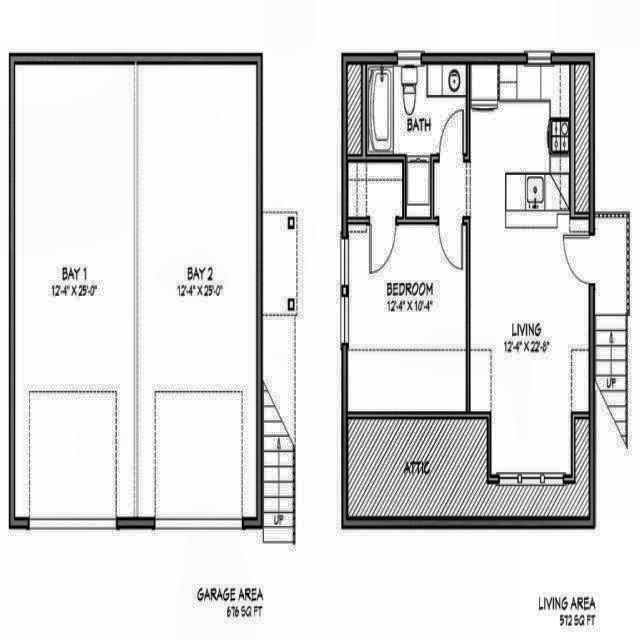room: (15, 64, 256, 517), (471, 65, 589, 476), (348, 419, 589, 517), (348, 225, 466, 412), (367, 66, 466, 217), (594, 217, 627, 444), (348, 162, 402, 217), (575, 65, 589, 212), (435, 162, 467, 216), (347, 64, 361, 154)
